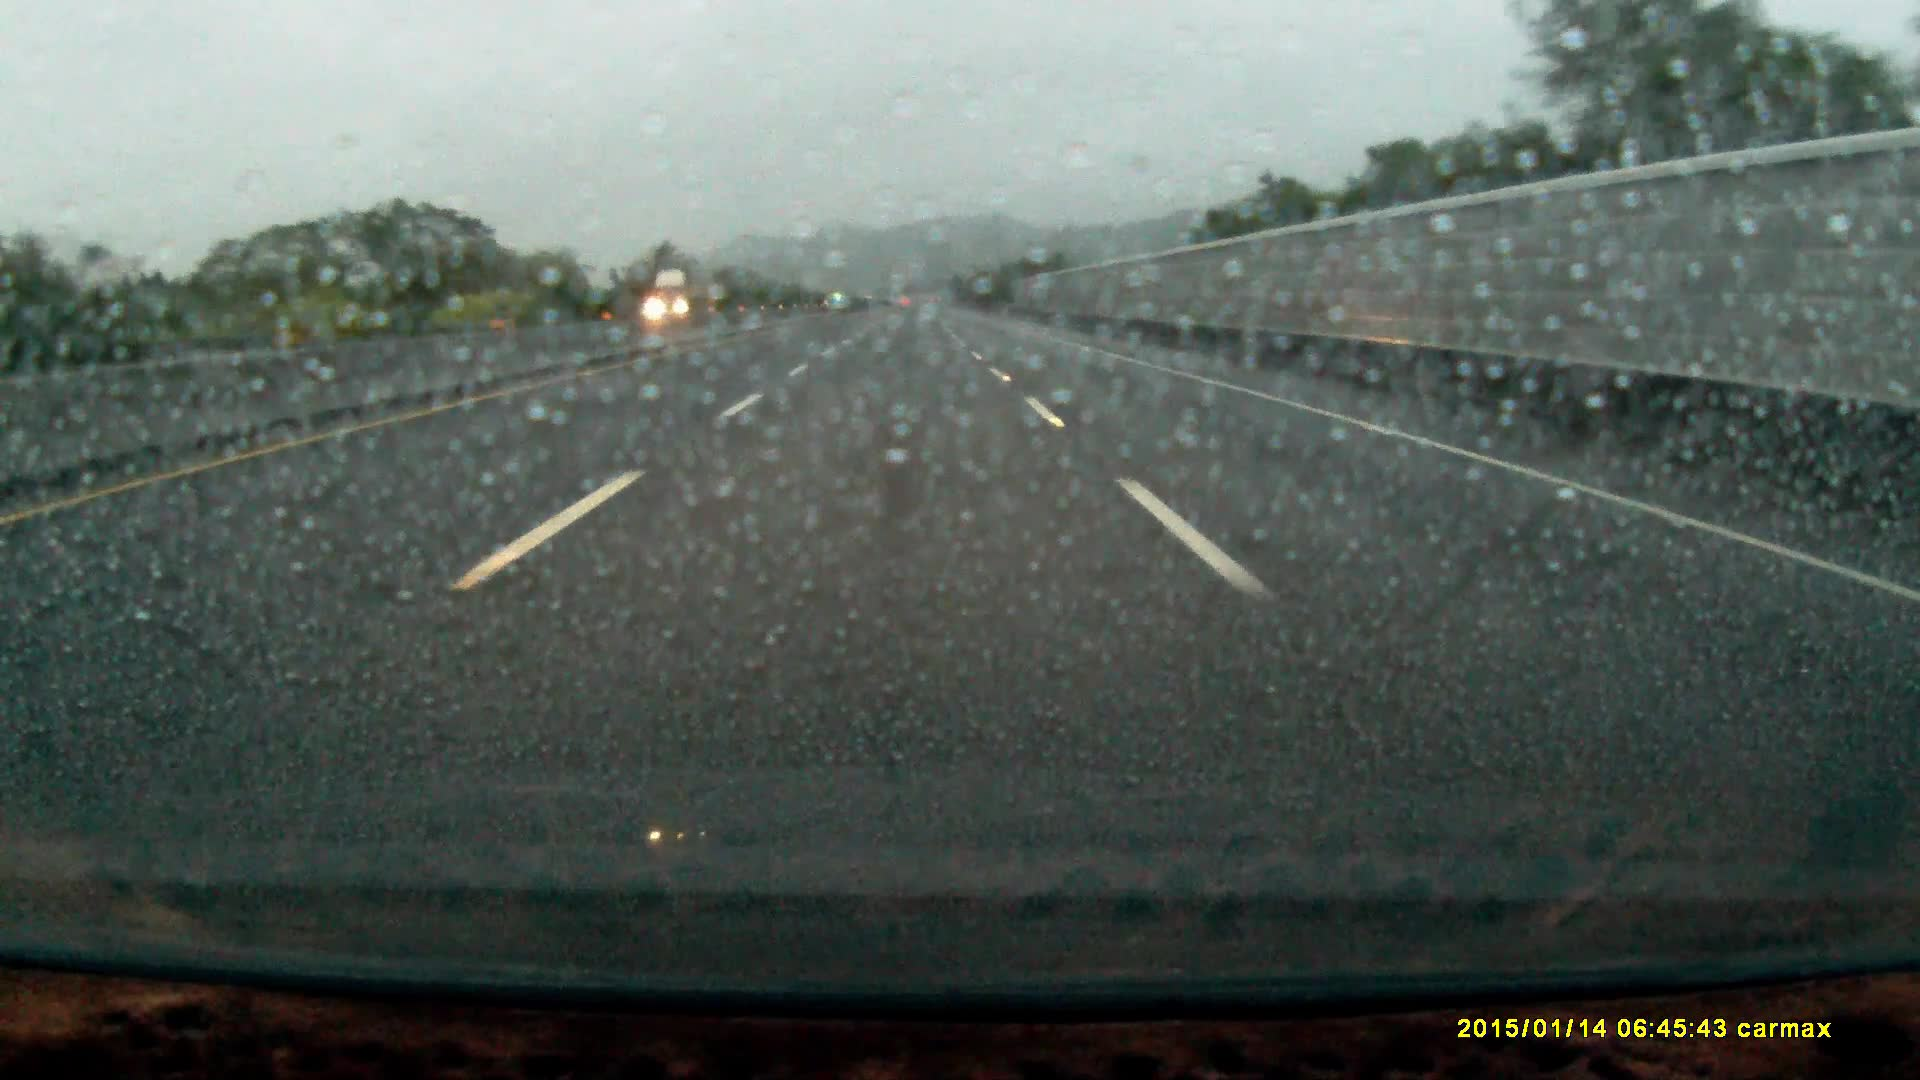vehicle: (646, 268, 713, 318)
